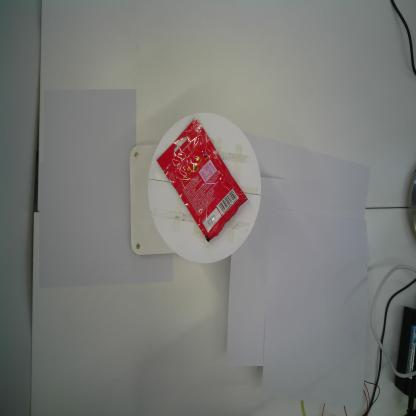Candy: (154, 115, 250, 244)
